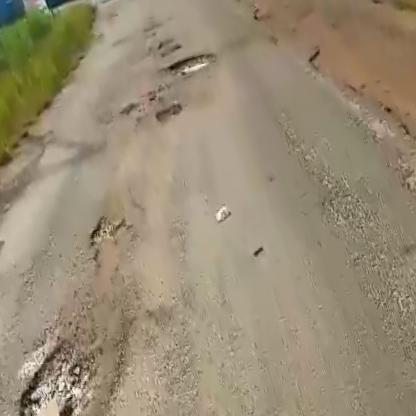pothole: (0, 323, 115, 416), (79, 207, 146, 273), (168, 48, 219, 81), (146, 97, 187, 126)
